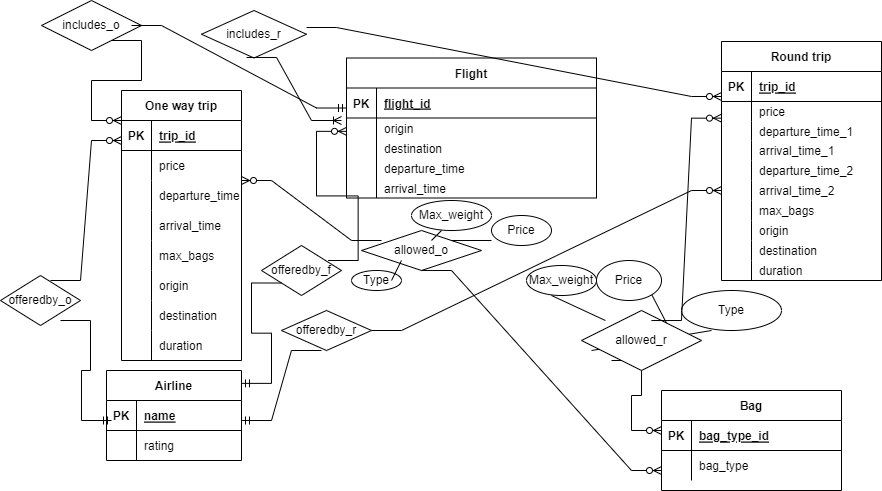entity: (721, 42, 882, 280), (347, 57, 597, 200), (121, 90, 242, 361), (661, 391, 843, 491), (105, 369, 243, 462)
many: (312, 114, 347, 128), (690, 184, 723, 198), (631, 425, 663, 439), (317, 124, 347, 138), (93, 115, 123, 128), (242, 175, 272, 188), (631, 465, 662, 477), (690, 92, 723, 103), (93, 136, 122, 148), (693, 114, 723, 125)
one: (240, 378, 270, 389), (318, 103, 345, 114), (82, 416, 110, 426), (242, 416, 270, 426)
rel: (581, 312, 702, 370), (201, 9, 307, 58), (42, 1, 141, 52), (362, 229, 482, 270), (261, 245, 342, 296), (1, 275, 81, 326), (281, 310, 371, 350)
rel_attr: (680, 291, 781, 332), (597, 259, 662, 301), (410, 201, 493, 232), (526, 264, 596, 296), (489, 214, 554, 247), (351, 269, 403, 292)
